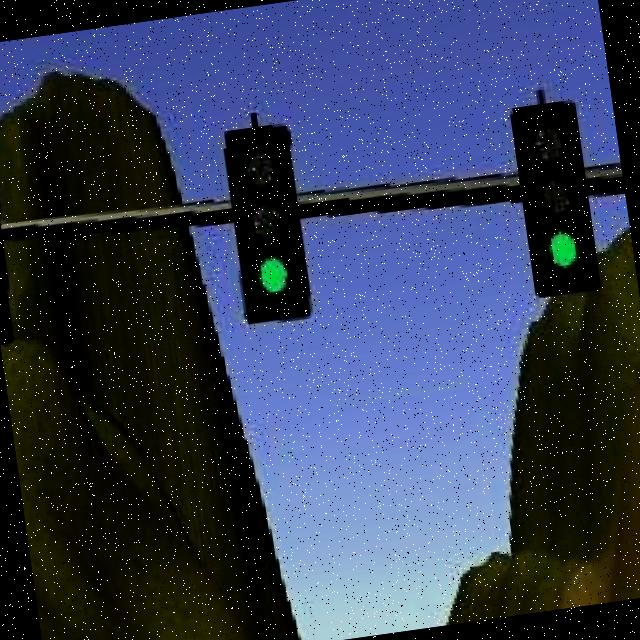Zielone swiatlo: (218, 117, 315, 330), (509, 100, 602, 302)
